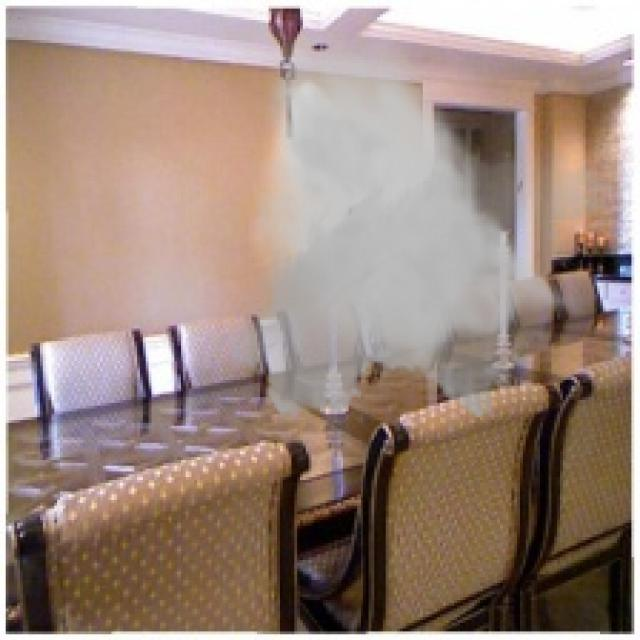smoke: (217, 20, 617, 429)
